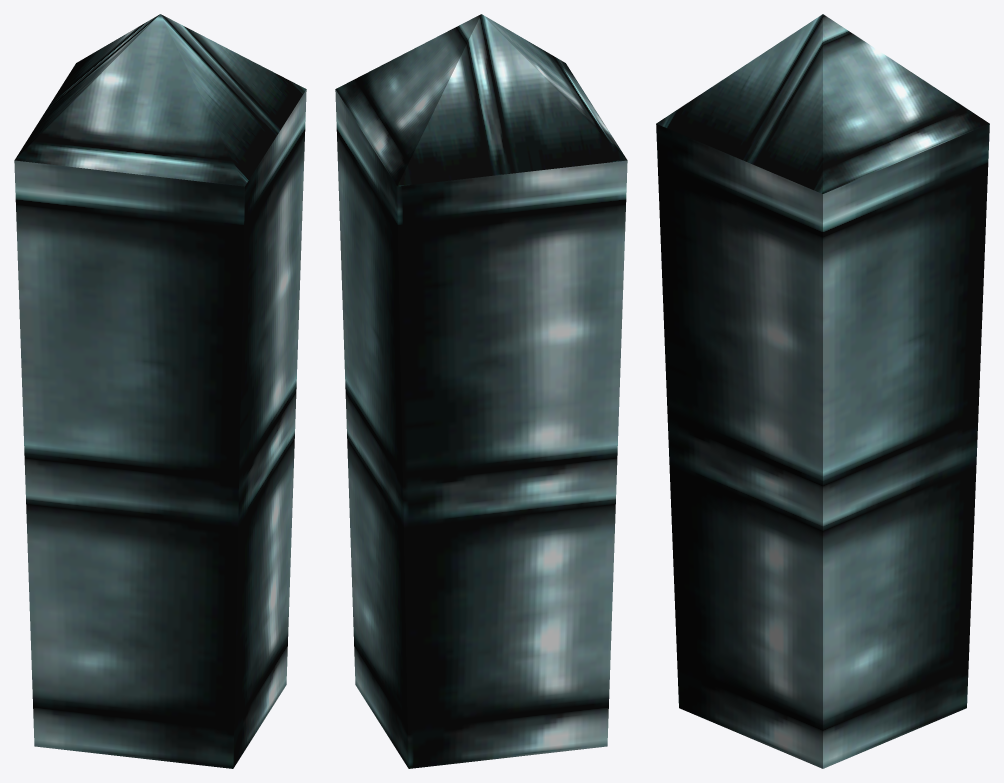
Rendered from ZaunEcke [Rohr]_771.glb.
3 views of the same model, side by side, from view 1: azimuth 30°, elevation 25°; view 2: azimuth 150°, elevation 25°; view 3: azimuth 270°, elevation 25° (orthographic).
Parts seen in each view (by area): view 1: pCylinderShape1, pPlaneShape1; view 2: pCylinderShape1, pPlaneShape1; view 3: pCylinderShape1, pPlaneShape1.
Part boxes in pixels (x1,y1,x2,y2): pCylinderShape1: (14, 89, 306, 768); pPlaneShape1: (14, 14, 306, 186); pCylinderShape1: (335, 89, 627, 768); pPlaneShape1: (335, 14, 627, 186); pCylinderShape1: (656, 123, 989, 768); pPlaneShape1: (656, 14, 989, 193).
Bounding box in the file's own units: 0.0817 × 0.1874 × 0.0817.
2 materials, 2 textured.
